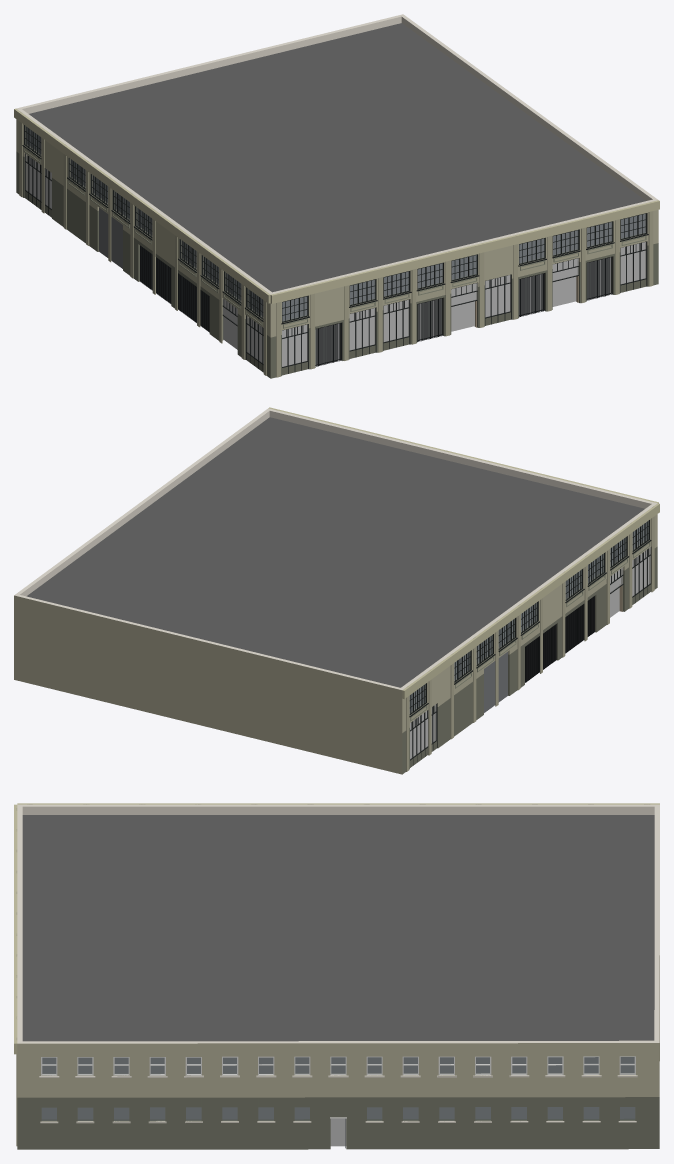
Rendered from exterior.glb.
3 renders of one model, top to bottom at view 1: azimuth 30°, elevation 25°; view 2: azimuth 150°, elevation 25°; view 3: azimuth 270°, elevation 25°, orthographic. The views are drawn at different scales.
Parts seen in each view (by area): view 1: roof, shell, shadow-proxy, glazing, storefront, relief-0, relief-1, frames, trim; view 2: roof, shell, relief-1, storefront, glazing, frames, shadow-proxy, relief-0; view 3: roof, shell, glazing, shadow-proxy, frames, trim, relief-1, relief-0.
Part boxes in pixels (x1,y1,x2,y2): roof: (29,23,645,292); shell: (16,14,658,378); shadow-proxy: (27,128,644,366); glazing: (25,126,645,366); storefront: (24,153,646,375); relief-0: (270,200,659,377); relief-1: (14,108,270,375); frames: (24,125,647,322); trim: (22,145,648,324); roof: (26,417,644,687); shell: (14,408,657,774); relief-1: (402,503,659,771); storefront: (410,547,651,767); glazing: (409,521,650,759); frames: (409,520,649,715); shadow-proxy: (410,522,648,758); relief-0: (268,407,658,503); roof: (22,815,654,1041); shell: (17,804,659,1149); glazing: (41,1057,635,1120); shadow-proxy: (42,1057,634,1146); frames: (41,1056,635,1075); trim: (39,1075,637,1123); relief-1: (17,803,659,804); relief-0: (14,804,17,1146).
Bounding box in the file's own units: 36.78 × 7.55 × 41.66.
